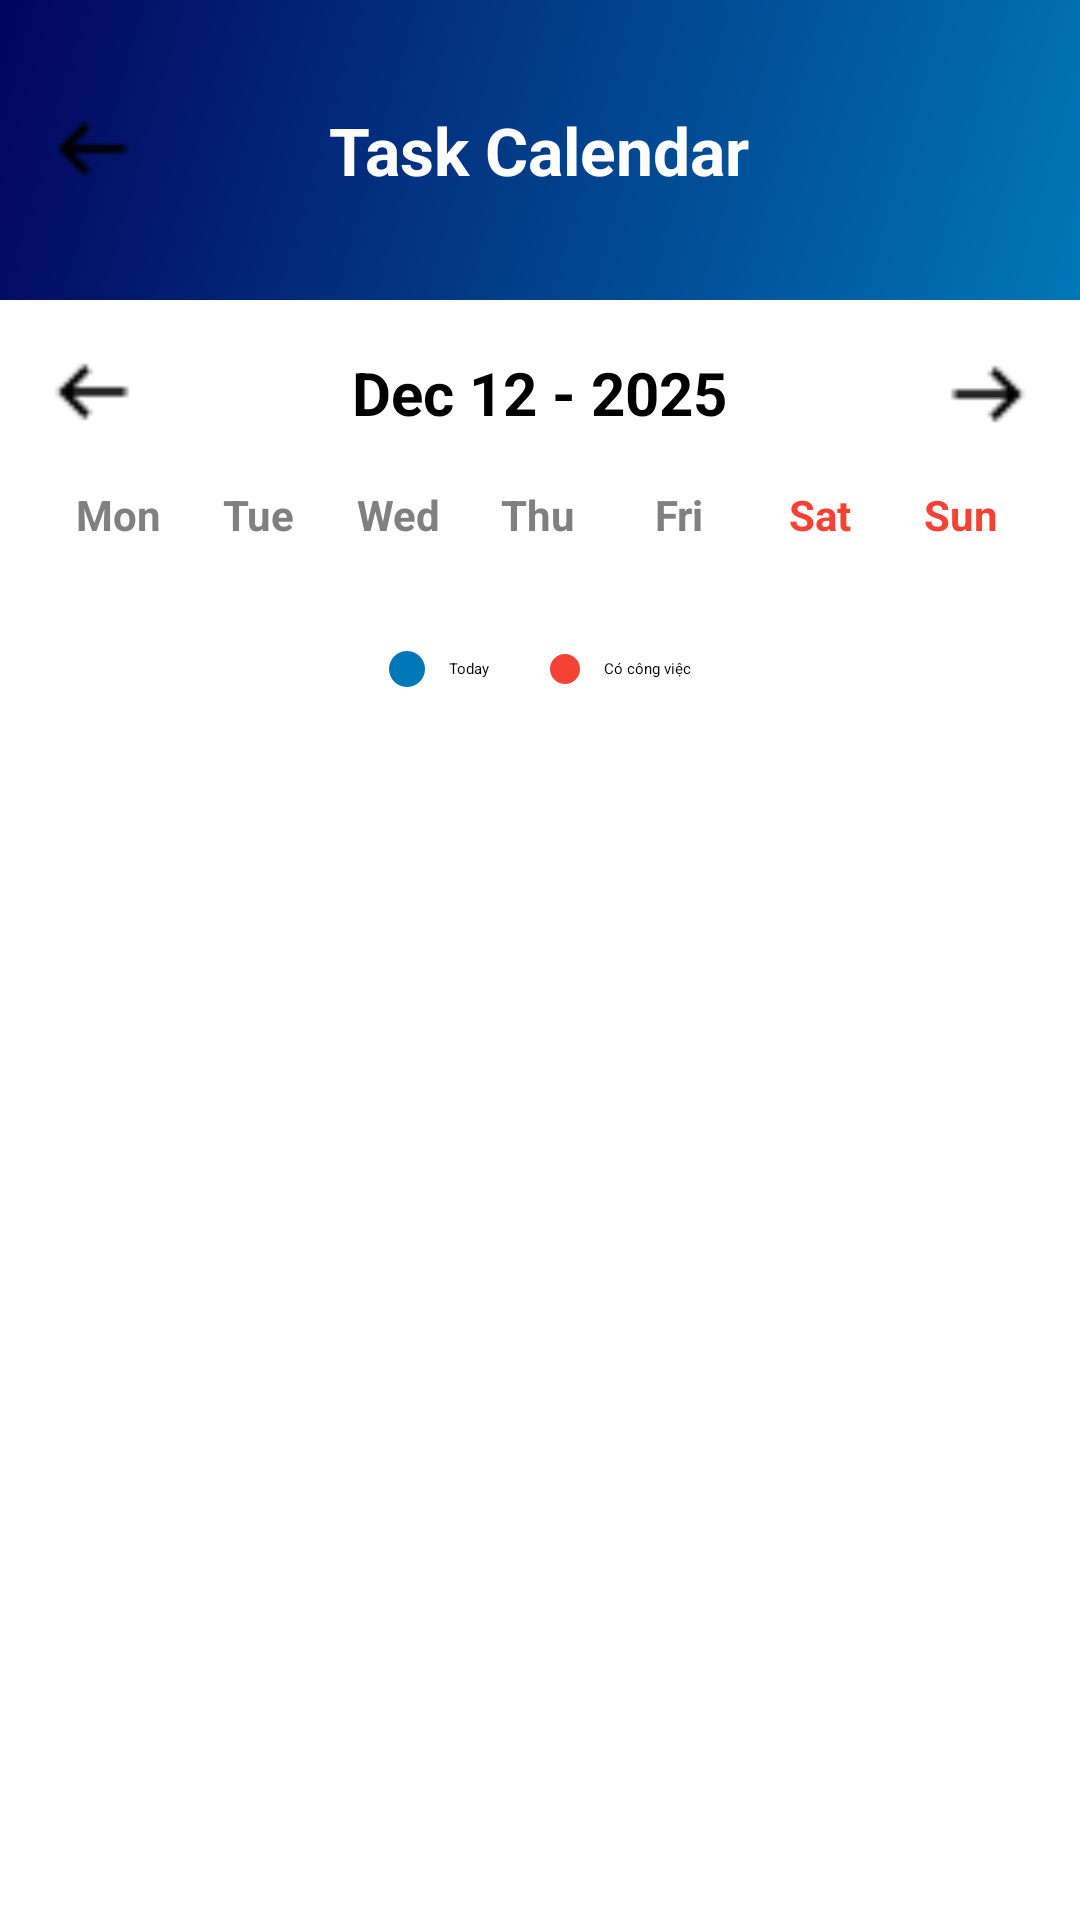

Locate icon controls on the screen. Image size 1080w x 1920h, boxes as (x1, y1, x2, y2).
Back: (58, 121, 128, 176)
Last Month: (56, 363, 129, 420)
Next Month: (951, 366, 1024, 423)
